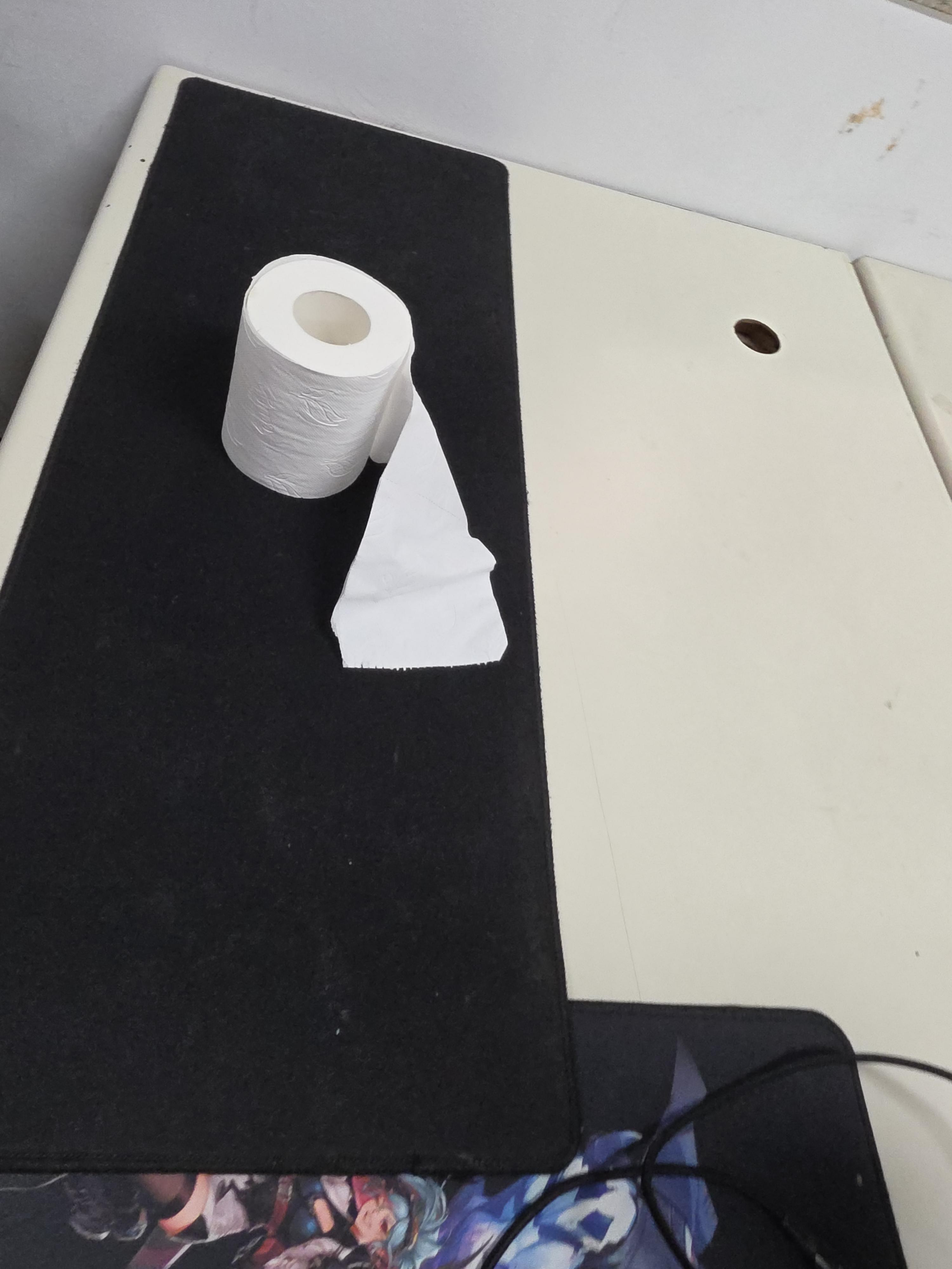tissue: (220, 253, 508, 670)
